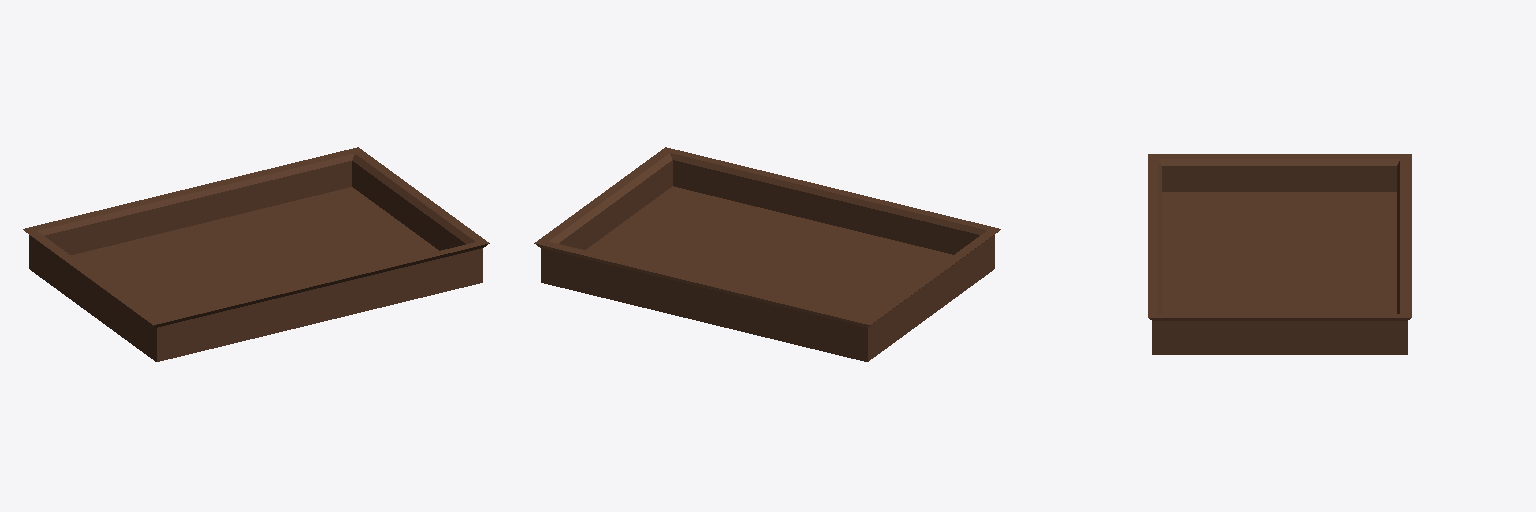
File: tray.obj
3 views of the same model, side by side, from view 1: azimuth 30°, elevation 25°; view 2: azimuth 150°, elevation 25°; view 3: azimuth 270°, elevation 25° (orthographic).
Parts seen in each view (by area): view 1: Cube; view 2: Cube; view 3: Cube.
Boxes of the visible parts, x1=… form: Cube: x1=23, y1=147, x2=489, y2=361; Cube: x1=534, y1=147, x2=1000, y2=361; Cube: x1=1148, y1=154, x2=1411, y2=354.
Size of the model in its own units: 16.68 by 1.87 by 11.3.